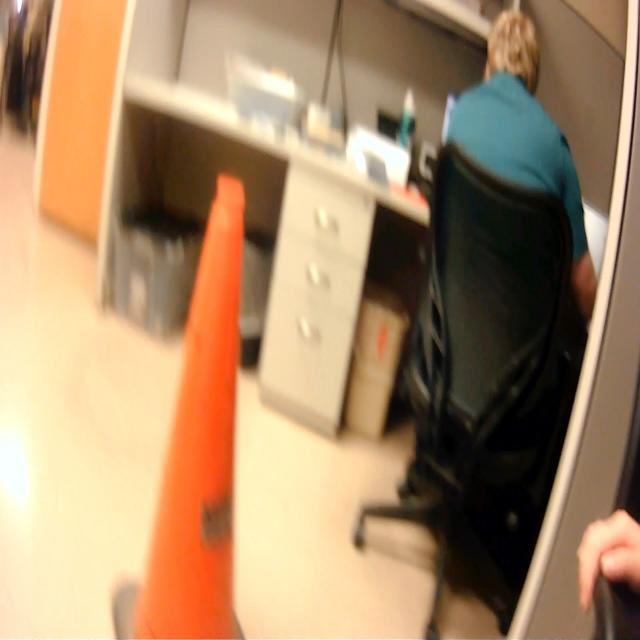traffic cone: (106, 162, 257, 640)
